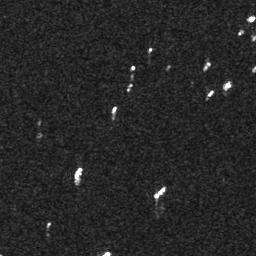ship: (152, 186, 167, 201), (73, 167, 84, 186), (202, 62, 212, 72), (110, 104, 118, 115), (223, 81, 232, 90), (125, 83, 134, 92), (248, 15, 256, 24), (208, 89, 214, 98)
